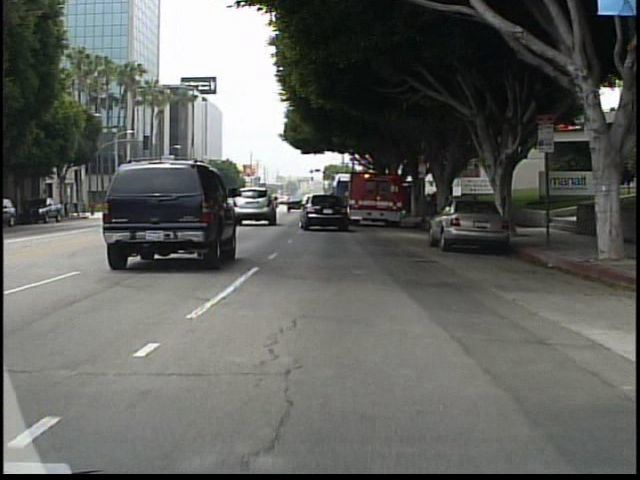person: (90, 198, 103, 219), (80, 195, 91, 219)
